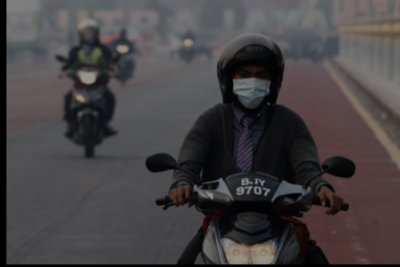with_mask: (233, 67, 271, 108)
